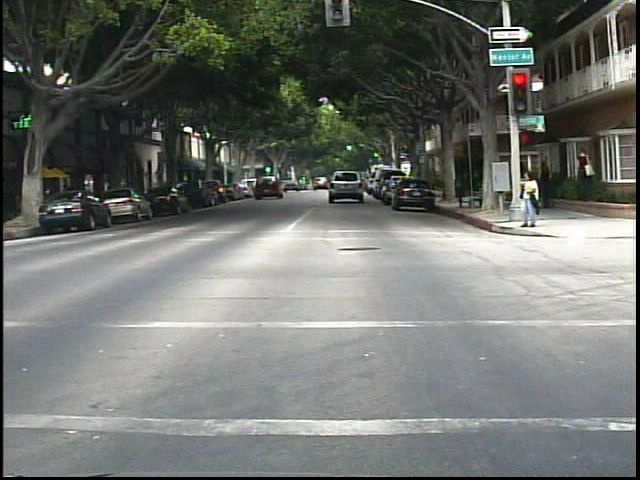person: (515, 168, 546, 232), (573, 145, 598, 204), (540, 159, 562, 217)
